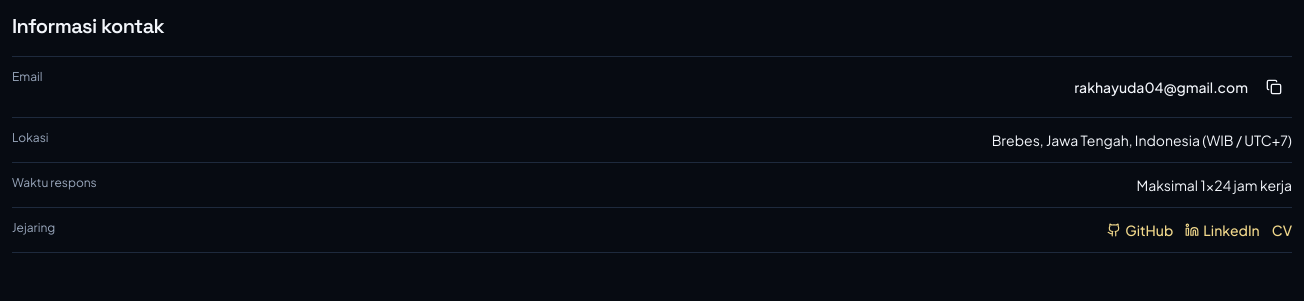
Test: ContactPanel › menyalin email dan mengumumkannya lewat aria-live
Click the button named "Salin email" at [1274, 87], box [1256,69,1292,105]
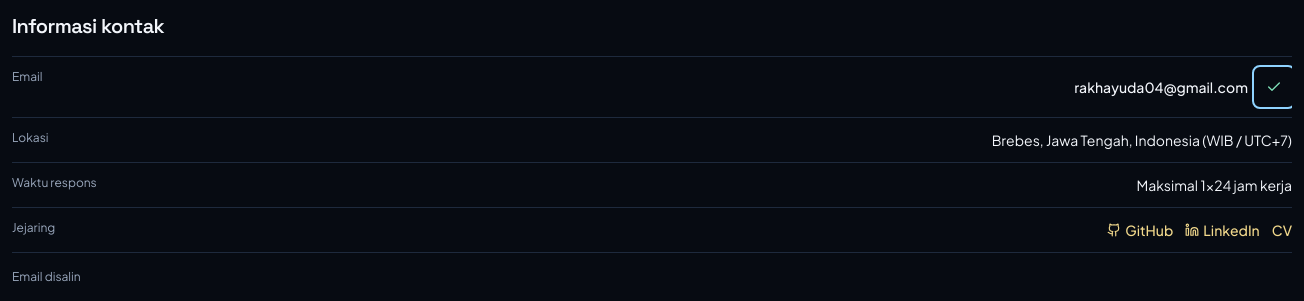
expect the text "Email disalin" is shown: met, box [12,269,81,284]
